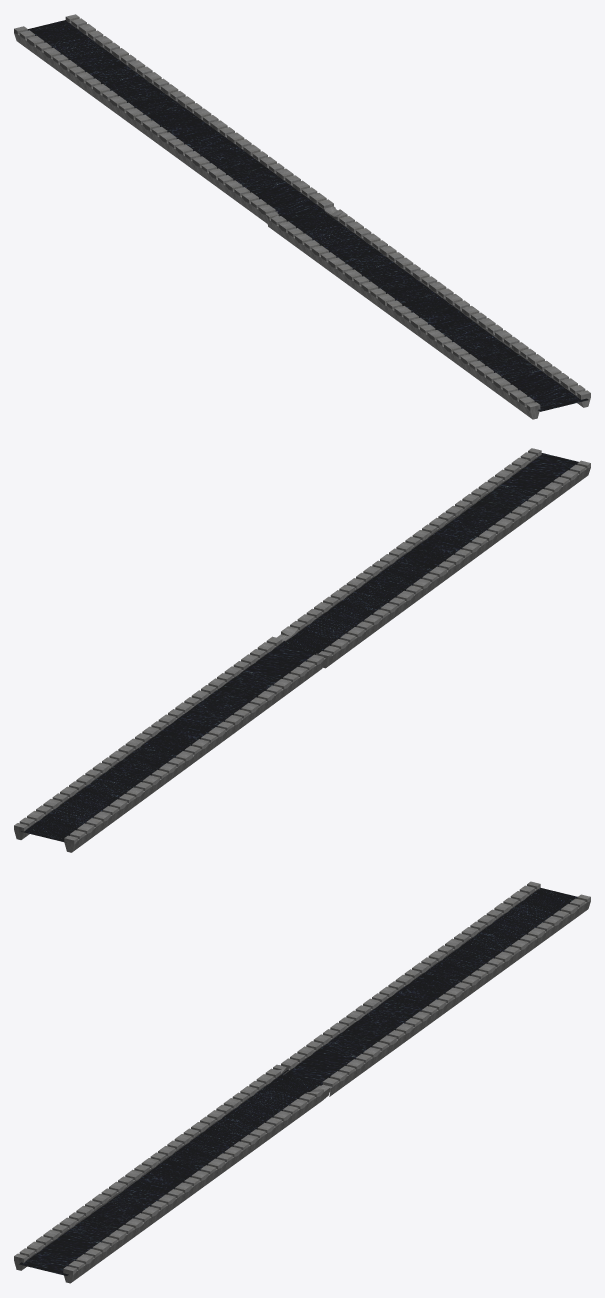
3 renders of one model, top to bottom at view 1: azimuth 30°, elevation 25°; view 2: azimuth 150°, elevation 25°; view 3: azimuth 330°, elevation 25°, orthographic.
Parts seen in each view (by area): view 1: Plane.001, Plane.003, barricade_low.023, barricade_low.010, barricade_low.026, barricade_low.013; view 2: Plane.001, Plane.003, barricade_low.023, barricade_low.010, barricade_low.013, barricade_low.026; view 3: Plane.001, Plane.003, barricade_low.013, barricade_low.026, barricade_low.023, barricade_low.010.
Boxes of the visible parts, left/top/right/bottom form: Plane.001: left=282, top=207, right=588, bottom=411; Plane.003: left=27, top=20, right=320, bottom=216; barricade_low.023: left=265, top=212, right=540, bottom=419; barricade_low.010: left=14, top=26, right=279, bottom=223; barricade_low.026: left=324, top=208, right=590, bottom=407; barricade_low.013: left=65, top=14, right=335, bottom=209; Plane.001: left=279, top=453, right=578, bottom=654; Plane.003: left=21, top=645, right=315, bottom=842; barricade_low.023: left=318, top=460, right=590, bottom=668; barricade_low.010: left=64, top=653, right=325, bottom=852; barricade_low.013: left=14, top=636, right=283, bottom=839; barricade_low.026: left=277, top=448, right=541, bottom=641; Plane.001: left=19, top=1073, right=322, bottom=1275; Plane.003: left=284, top=888, right=577, bottom=1082; barricade_low.013: left=321, top=894, right=590, bottom=1096; barricade_low.026: left=63, top=1085, right=330, bottom=1283; barricade_low.023: left=14, top=1064, right=286, bottom=1270; barricade_low.010: left=279, top=881, right=540, bottom=1075.
Bounding box in the file's own units: 12.43 × 2.75 × 177.
2 materials, 2 textured.
